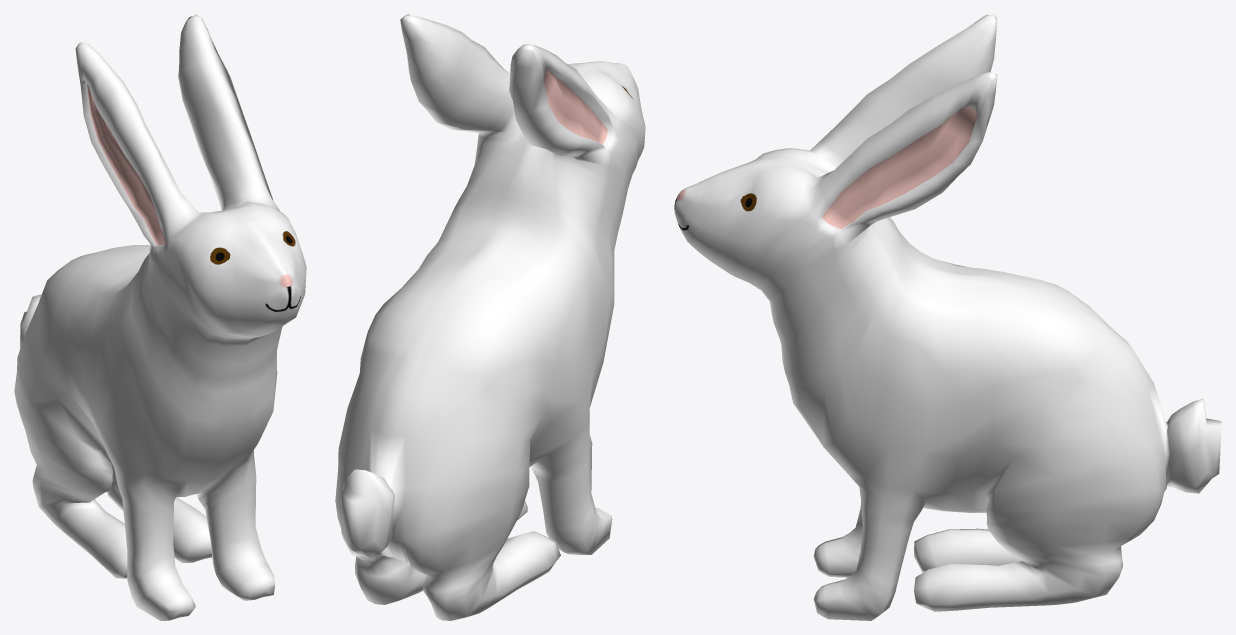
File: bunny.fbx
3 renders of one model, left to right at view 1: azimuth 30°, elevation 25°; view 2: azimuth 150°, elevation 25°; view 3: azimuth 270°, elevation 25°, orthographic. The views are drawn at different scales.
Parts seen in each view (by area): view 1: bunny; view 2: bunny; view 3: bunny.
Boxes of the visible parts, x1,y1,x2,y2 form: bunny: (14,14,306,620); bunny: (335,14,645,620); bunny: (674,14,1221,620).
Size of the model in its own units: 24.34 by 78.09 by 70.66.
